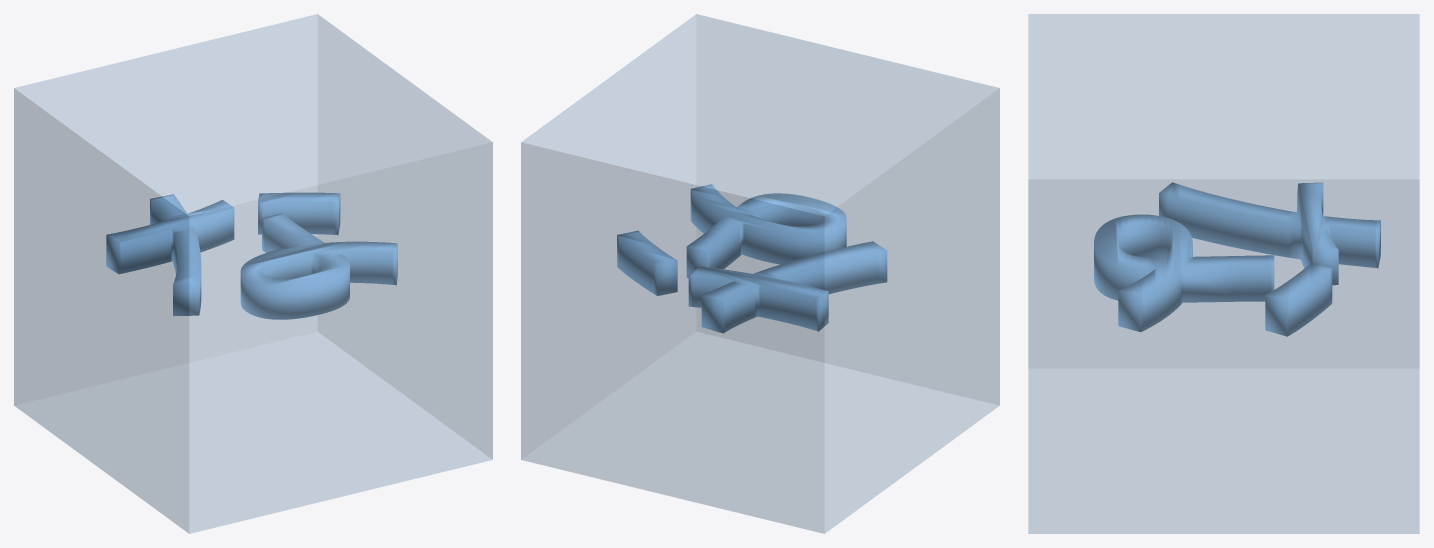
Rendered from Title_Ice7.obj.
The picture shows the model from 3 angles, left to right: view 1: azimuth 30°, elevation 25°; view 2: azimuth 150°, elevation 25°; view 3: azimuth 270°, elevation 25°; orthographic projection. The views are drawn at different scales.
Parts seen in each view (by area): view 1: 7.な; view 2: 7.な; view 3: 7.な.
Part boxes in pixels (<box>): 7.な: <box>14,14,492,533</box>; 7.な: <box>521,14,999,533</box>; 7.な: <box>1028,14,1419,533</box>.
Bounding box in the file's own units: 2 × 2 × 2.
Materials: 1 (1 with a texture image).
